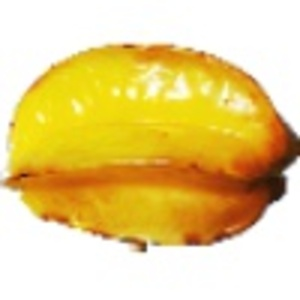carambola: (1, 33, 300, 256)
